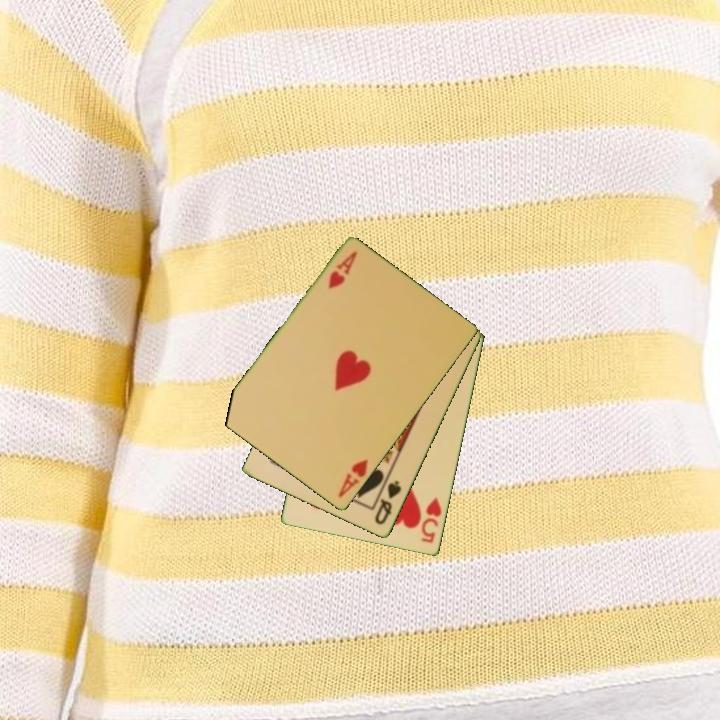5h: (418, 494, 445, 546)
Ah: (335, 456, 371, 501), (325, 248, 360, 292)
Qs: (371, 477, 404, 528)
